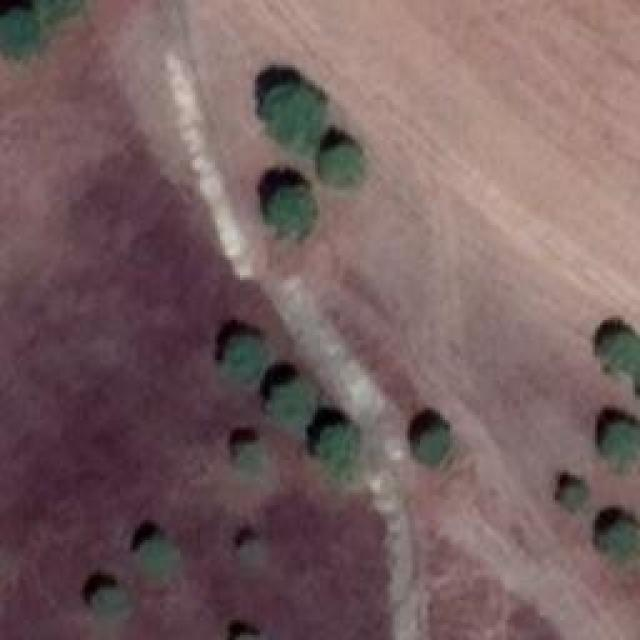Tree: (260, 80, 320, 148), (265, 182, 313, 240), (217, 335, 265, 388), (262, 378, 310, 428), (320, 142, 363, 190), (597, 420, 640, 460), (320, 423, 358, 468), (600, 330, 640, 370), (413, 425, 453, 463), (597, 518, 635, 558), (0, 9, 32, 52), (143, 537, 173, 575), (93, 585, 123, 620), (230, 443, 263, 473), (560, 482, 588, 510), (240, 542, 260, 560)
